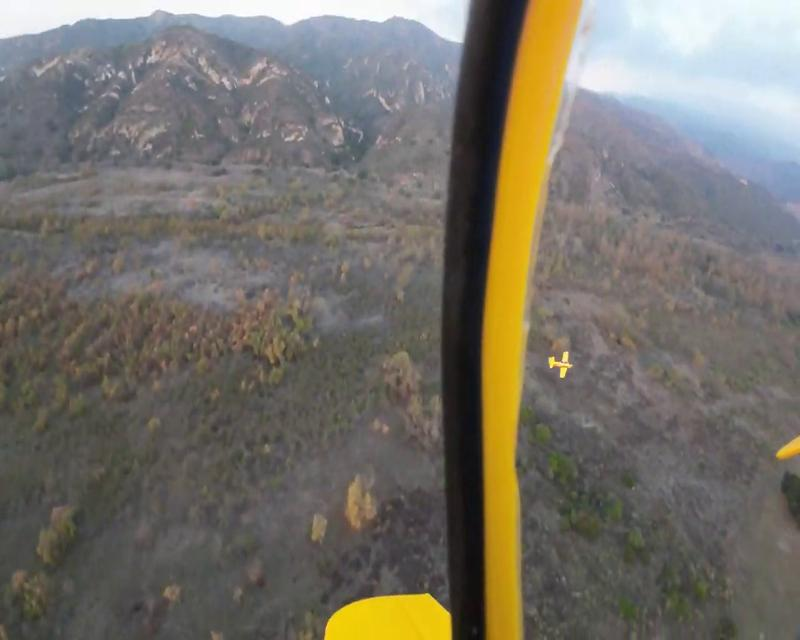UAV: (546, 350, 573, 379)
